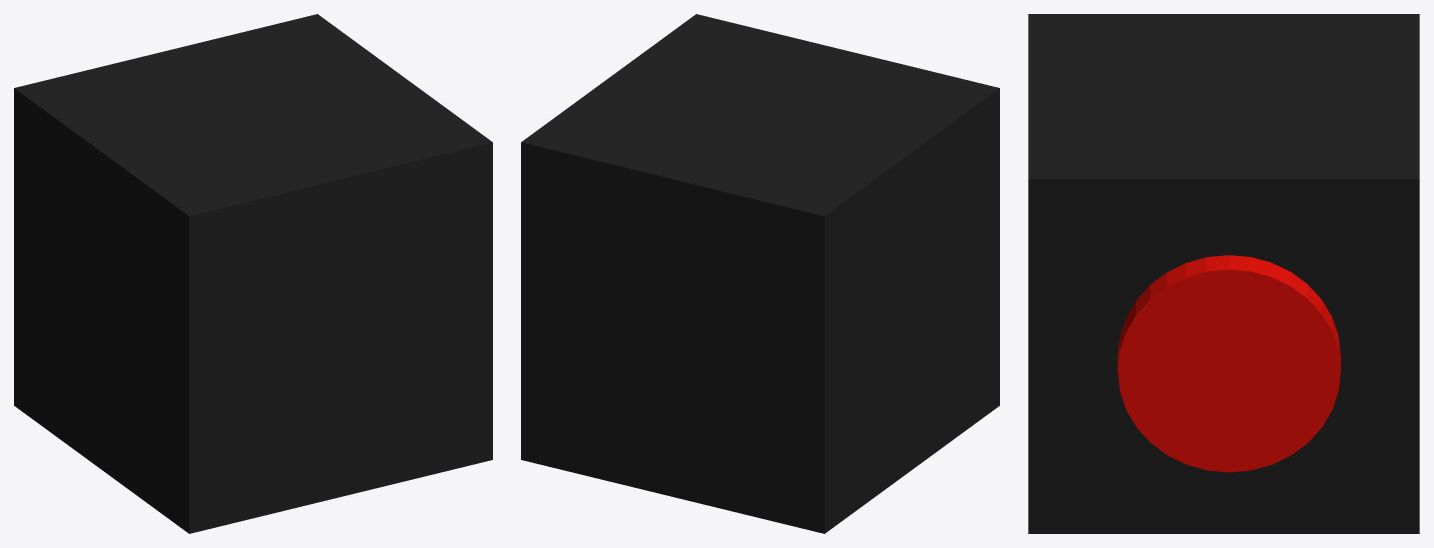
Rendered from Deactivator button.fbx.
3 views of the same model, side by side, from view 1: azimuth 30°, elevation 25°; view 2: azimuth 150°, elevation 25°; view 3: azimuth 270°, elevation 25° (orthographic). The views are drawn at different scales.
Visible parts, largest first — view 1: Cylinder; view 2: Cylinder; view 3: Cylinder.
Part boxes in pixels (<box>): Cylinder: <box>14,14,492,533</box>; Cylinder: <box>521,14,999,533</box>; Cylinder: <box>1028,14,1419,533</box>.
Bounding box in the file's own units: 218 × 200 × 200.
